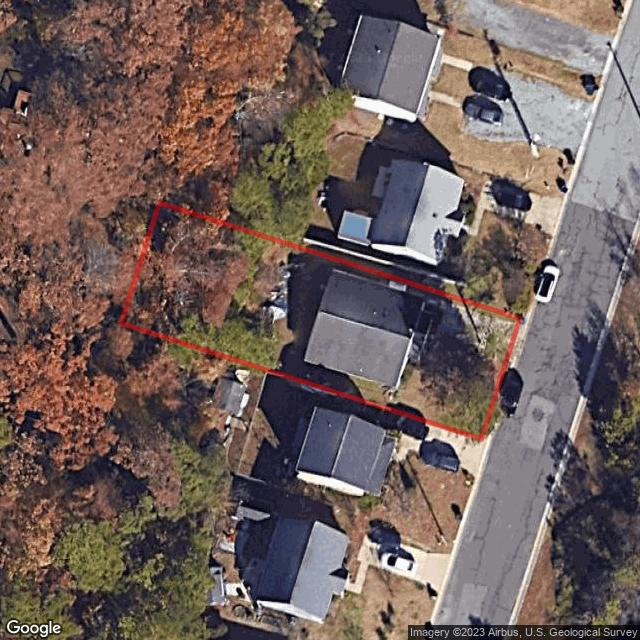Extra Lawn: (509, 321, 530, 367)
House: (305, 270, 426, 388)
